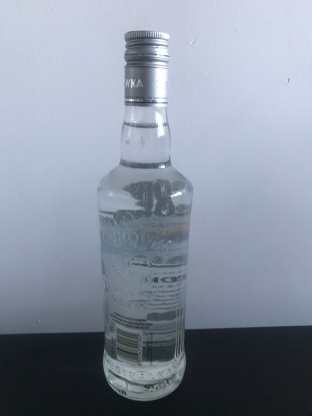nakretka: (121, 27, 171, 111)
